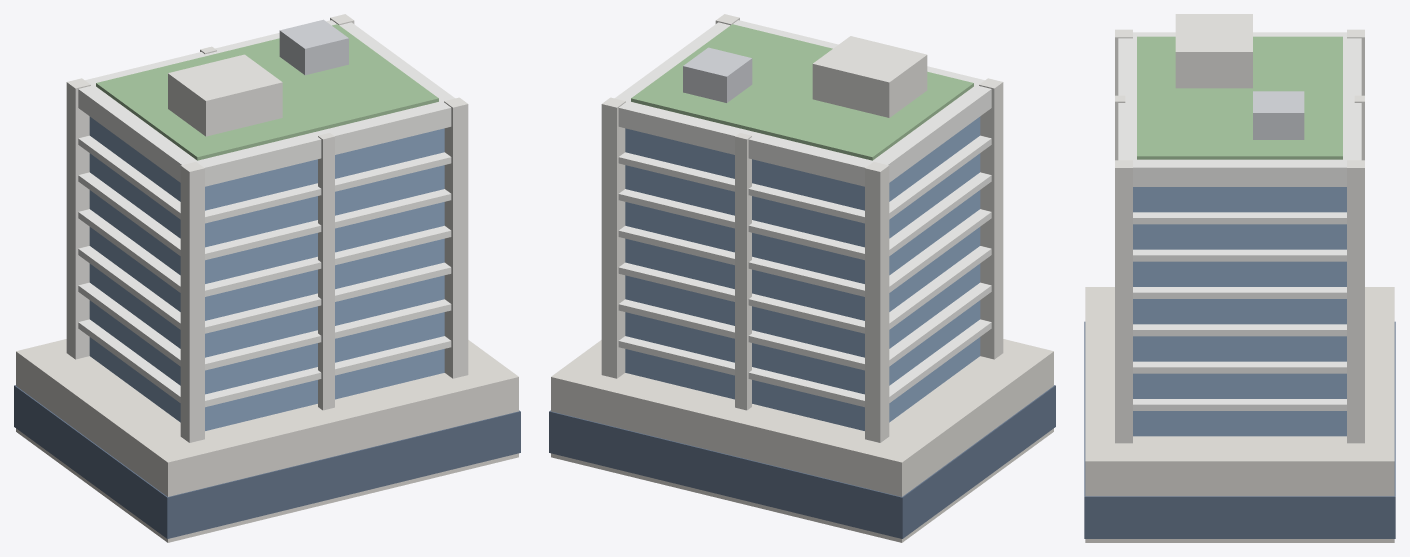
The model's file is tower-s.glb.
3 views of the same model, side by side, from view 1: azimuth 30°, elevation 25°; view 2: azimuth 150°, elevation 25°; view 3: azimuth 270°, elevation 25° (orthographic).
Parts seen in each view (by area): view 1: tower; view 2: tower; view 3: tower.
Part boxes in pixels (x1,y1,x2,y2): tower: (14, 14, 520, 542); tower: (549, 14, 1055, 542); tower: (1084, 14, 1395, 542).
Size of the model in its own units: 32.2 by 33.9 by 24.2.
